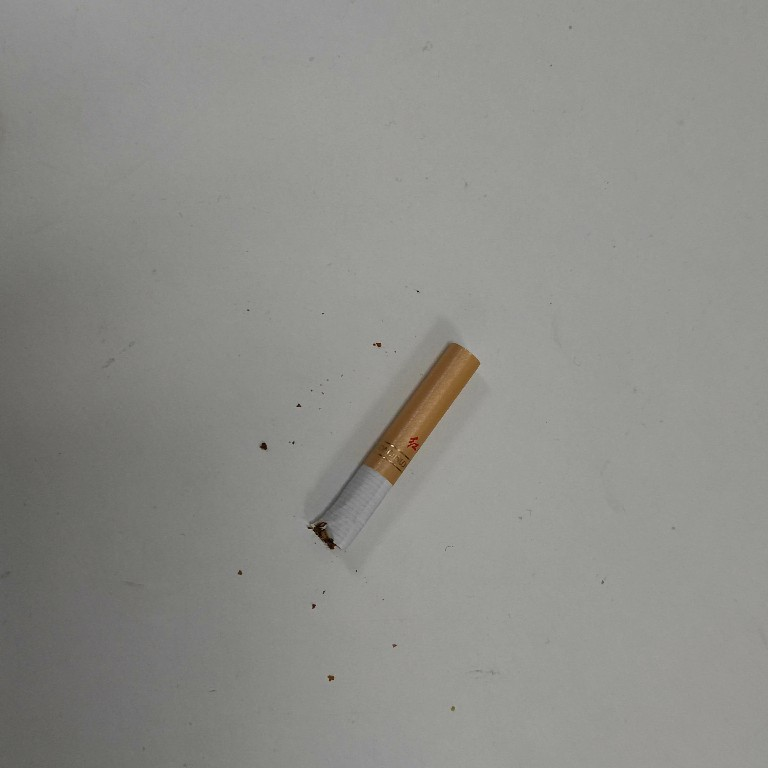cigarette: (304, 336, 482, 556)
